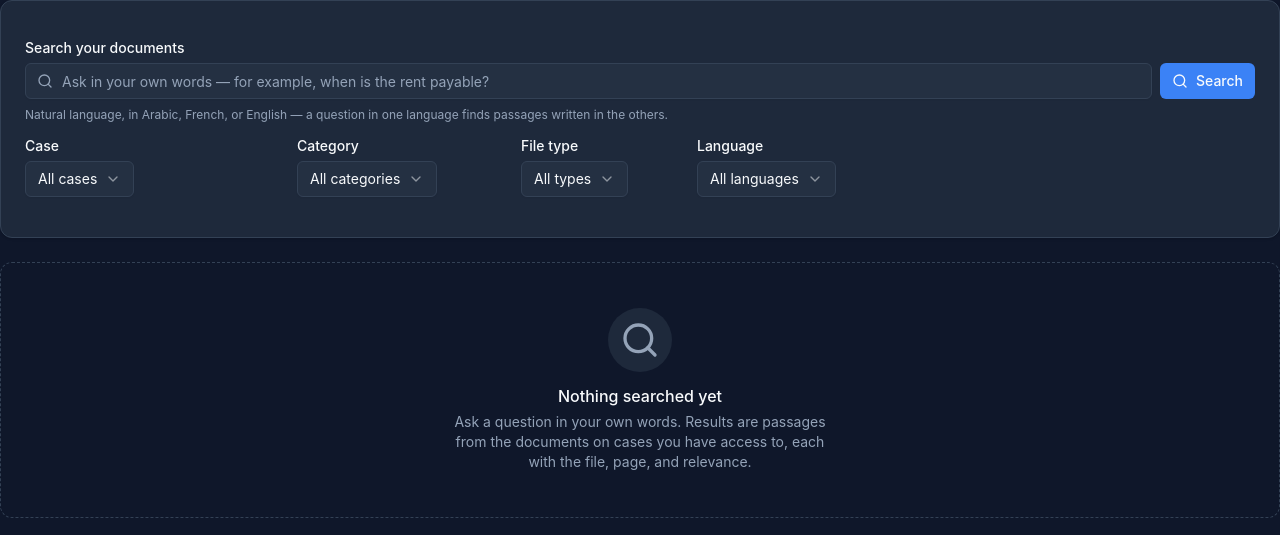
Test case: SemanticSearch › distinguishes no results from not having searched
Type "loyer payable d'avance" into the search field labelled "Search your documents". click: {"x": 588, "y": 81}
box: 25,63 -> 1152,99
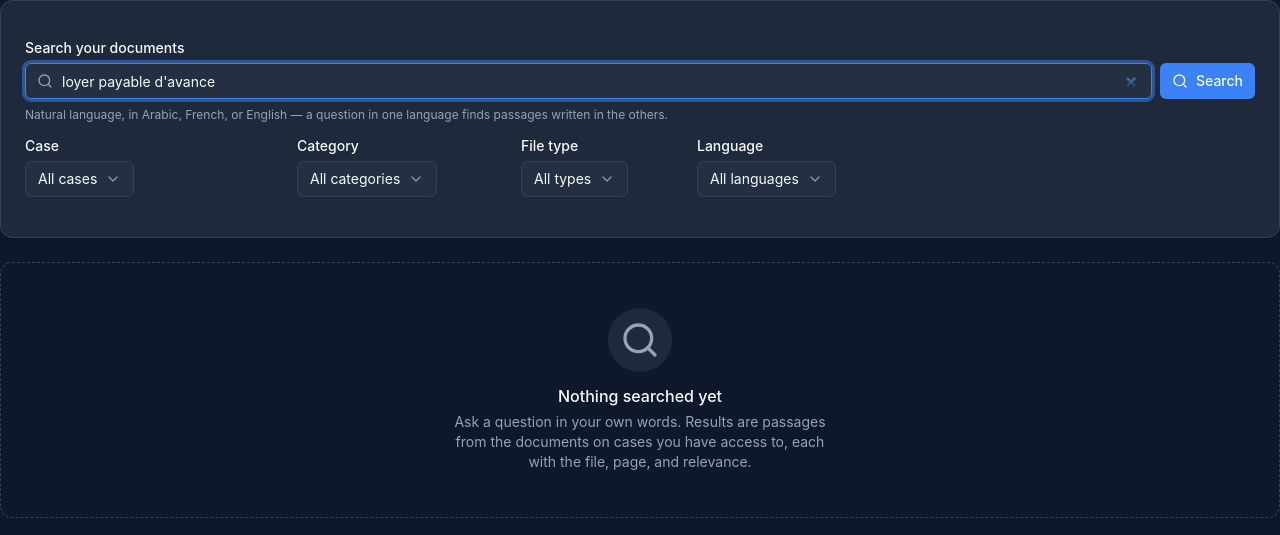
Click the button "Search". click: {"x": 1208, "y": 81}
box: 1160,63 -> 1255,99
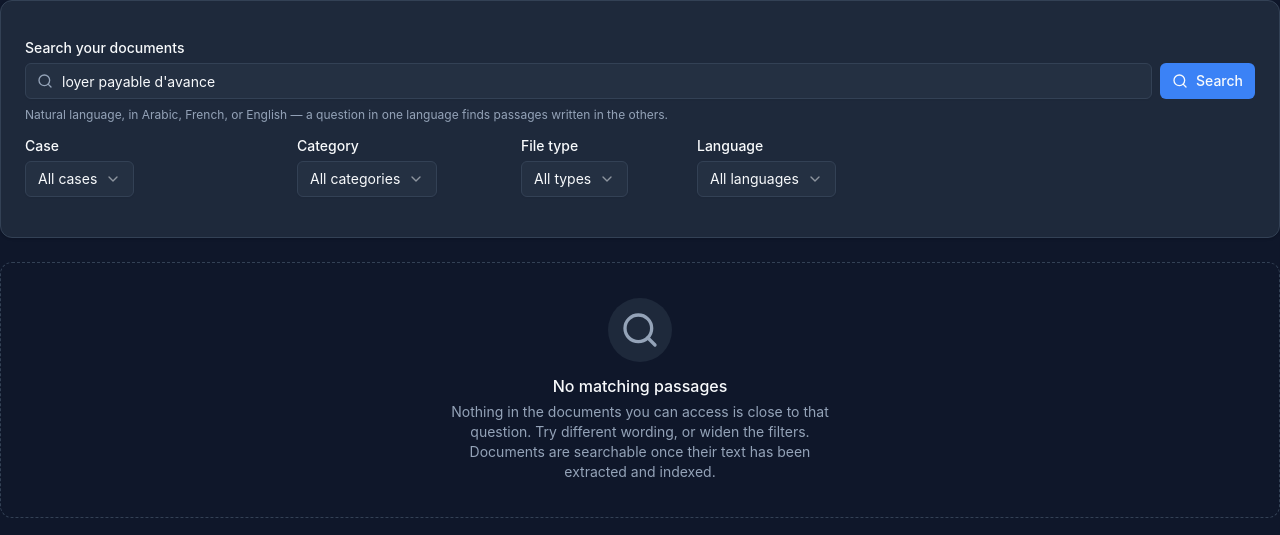
Result: the heading "No matching passages" is shown at 553,376 -> 727,396
